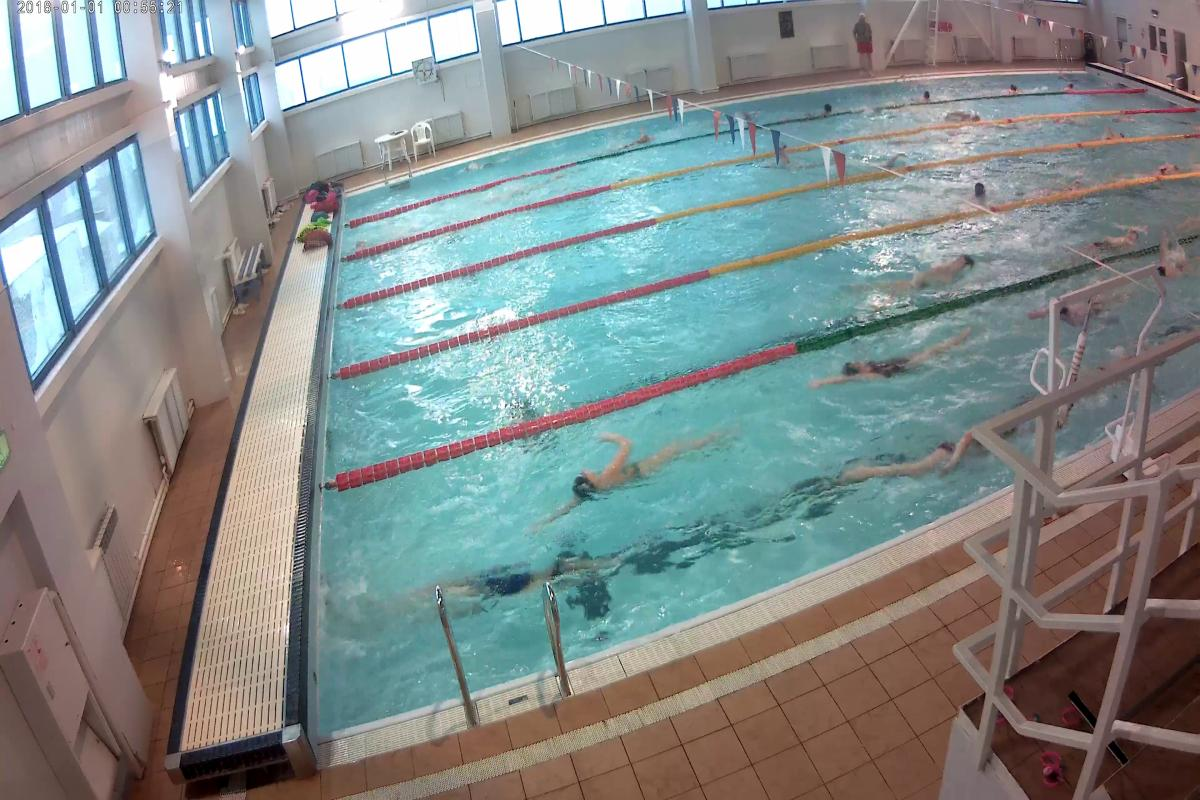swimmer: (542, 426, 746, 528), (811, 330, 981, 382), (467, 547, 603, 604), (840, 432, 971, 488), (884, 252, 978, 295), (1080, 219, 1150, 256), (935, 105, 988, 125), (1154, 250, 1193, 276), (776, 138, 797, 169)
